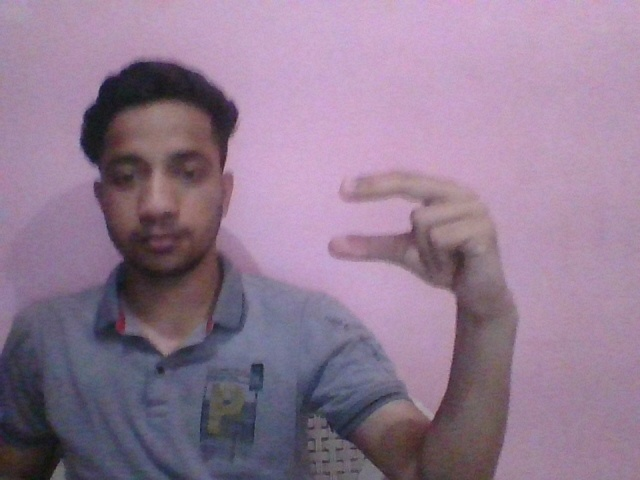no: (331, 173, 519, 305)
